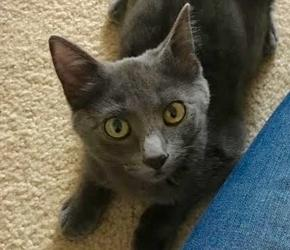rblue: (28, 6, 218, 195)
